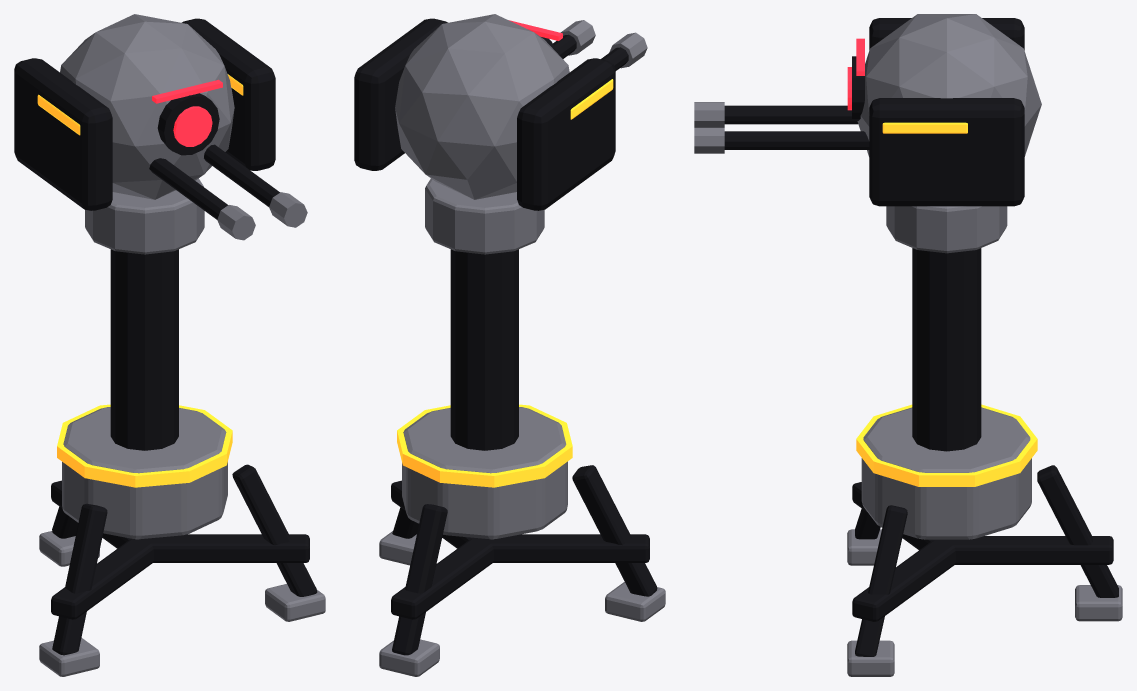
File: turret.glb
3 renders of one model, left to right at view 1: azimuth 30°, elevation 25°; view 2: azimuth 150°, elevation 25°; view 3: azimuth 270°, elevation 25°, orthographic.
Visible parts, largest first — view 1: TurretBase, TurretHead; view 2: TurretBase, TurretHead; view 3: TurretBase, TurretHead.
Part boxes in pixels (x1,y1,x2,y2): TurretBase: (39, 178, 325, 676); TurretHead: (14, 14, 307, 240); TurretBase: (379, 178, 665, 676); TurretHead: (354, 14, 647, 210); TurretBase: (847, 206, 1122, 676); TurretHead: (694, 14, 1041, 206).
Size of the model in its own units: 0.7197 by 1.52 by 0.992.
